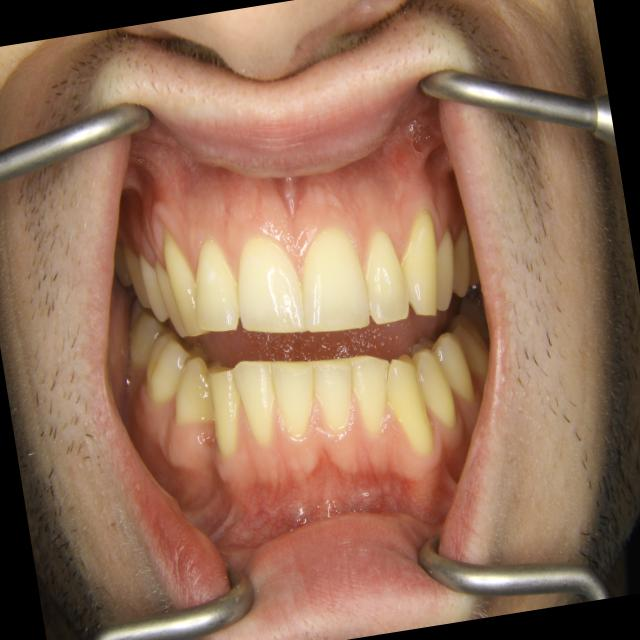tooth: (218, 201, 323, 364), (284, 220, 390, 355), (341, 210, 420, 344), (172, 223, 253, 349), (392, 192, 452, 330), (378, 342, 443, 467), (153, 219, 213, 353), (264, 342, 327, 451), (226, 351, 289, 459), (341, 346, 404, 450), (403, 337, 465, 441), (196, 354, 253, 466), (134, 321, 200, 414), (306, 344, 367, 444), (417, 322, 481, 415), (144, 243, 197, 353), (435, 304, 496, 389), (420, 213, 467, 321), (164, 352, 221, 441), (119, 292, 171, 381), (132, 236, 174, 336), (115, 232, 159, 322), (441, 212, 480, 312), (453, 289, 491, 350), (108, 238, 138, 299), (463, 240, 480, 290)
